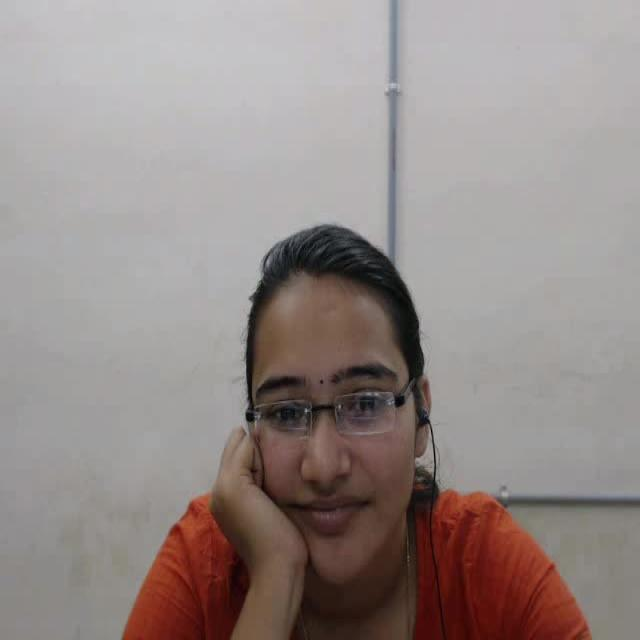Engaged: (191, 220, 491, 608)
